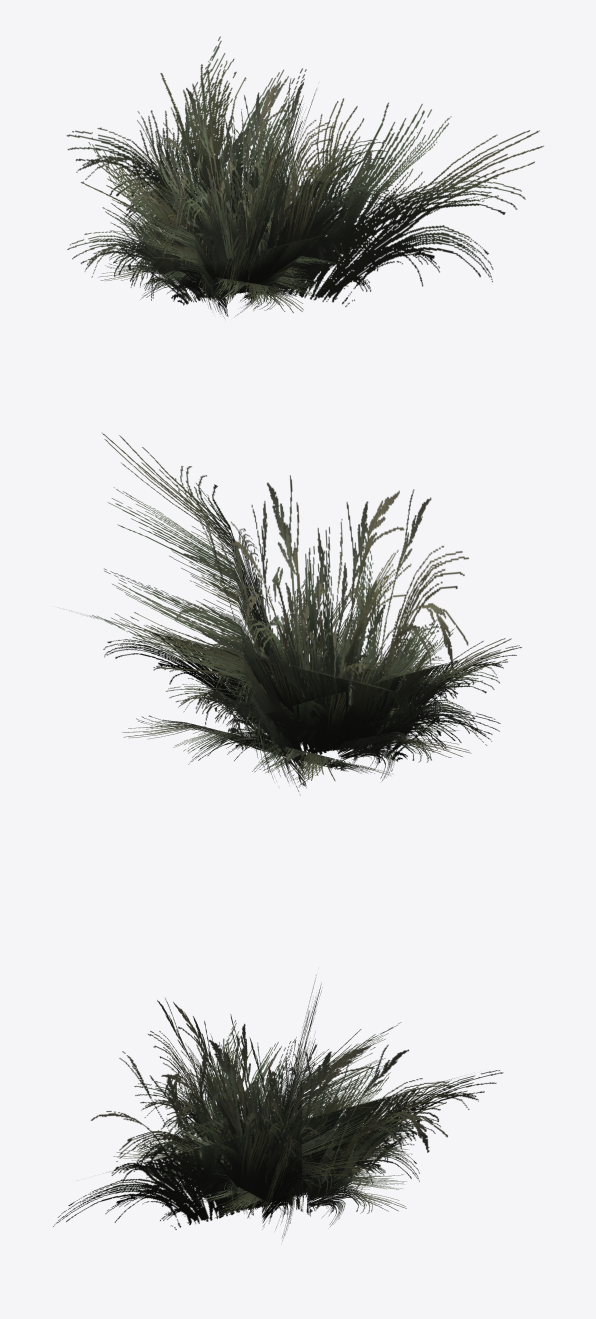
Rendered from Grass_C.glb.
3 renders of one model, top to bottom at view 1: azimuth 30°, elevation 25°; view 2: azimuth 150°, elevation 25°; view 3: azimuth 270°, elevation 25°, orthographic. The views are drawn at different scales.
Visible parts, largest first — view 1: C_LOD0; view 2: C_LOD0; view 3: C_LOD0.
Boxes of the visible parts, box(x1,y1,x2,y2) form: C_LOD0: box(66, 36, 543, 317); C_LOD0: box(69, 433, 521, 795); C_LOD0: box(53, 974, 503, 1240).
Size of what is drawn, in the model's own units: 1.26 by 0.6367 by 1.35.
1 material, 1 textured.
